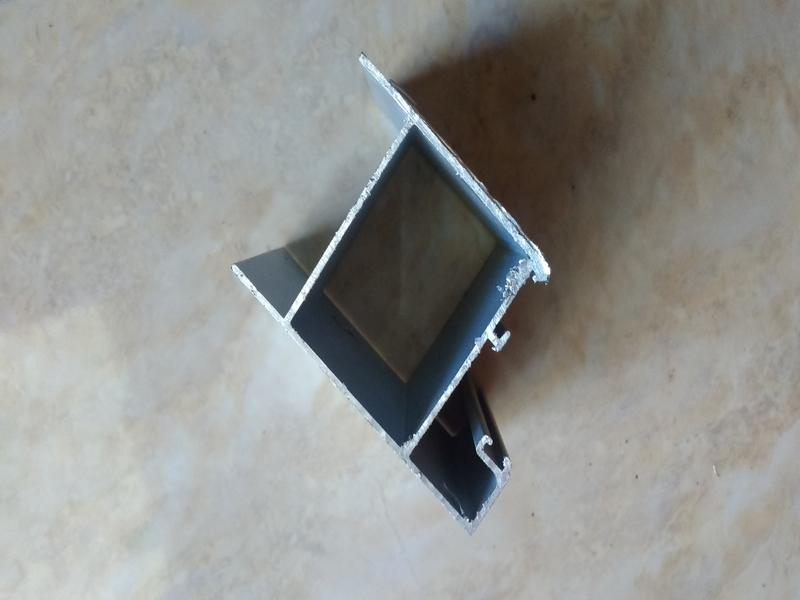Aluminium_2: (181, 27, 657, 542)
